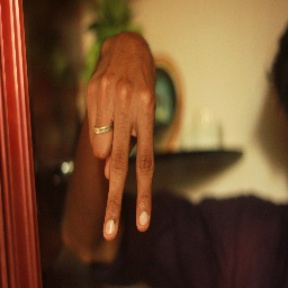Y: (74, 64, 161, 244)
